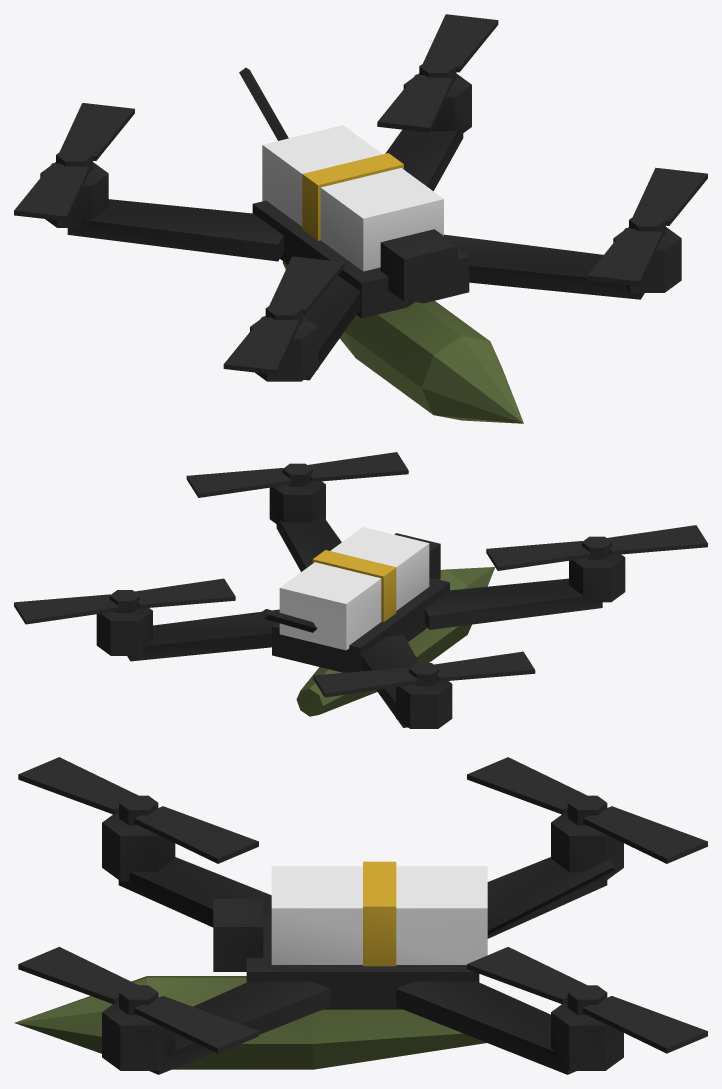
The model's file is ua-fpv.glb.
The picture shows the model from 3 angles, top to bottom: view 1: azimuth 30°, elevation 25°; view 2: azimuth 150°, elevation 25°; view 3: azimuth 270°, elevation 25°; orthographic projection. The views are drawn at different scales.
Parts seen in each view (by area): view 1: ua-fpv, prop_1, prop_2, prop_3, prop_0; view 2: ua-fpv, prop_0, prop_1, prop_3, prop_2; view 3: ua-fpv, prop_3, prop_1, prop_2, prop_0.
Part boxes in pixels (x1,y1,x2,y2): ua-fpv: (40, 67, 681, 423); prop_1: (223, 256, 344, 374); prop_2: (377, 14, 498, 132); prop_3: (14, 103, 134, 221); prop_0: (587, 167, 707, 286); ua-fpv: (96, 481, 625, 728); prop_0: (186, 452, 408, 497); prop_1: (486, 525, 707, 570); prop_3: (313, 651, 535, 697); prop_2: (14, 578, 235, 624); ua-fpv: (14, 813, 623, 1074); prop_3: (467, 757, 707, 863); prop_1: (18, 757, 258, 863); prop_2: (467, 947, 707, 1053); prop_0: (18, 946, 258, 1053).
Size of the model in its own units: 0.415 by 0.1385 by 0.4175.
